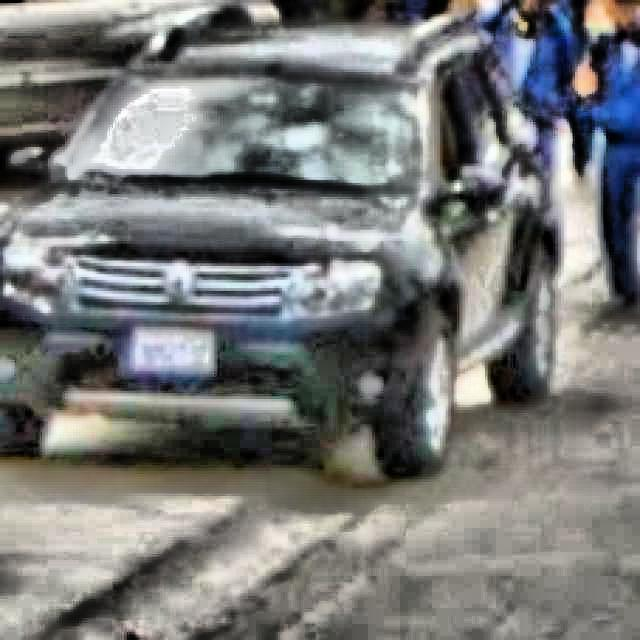carro: (10, 31, 558, 492)
